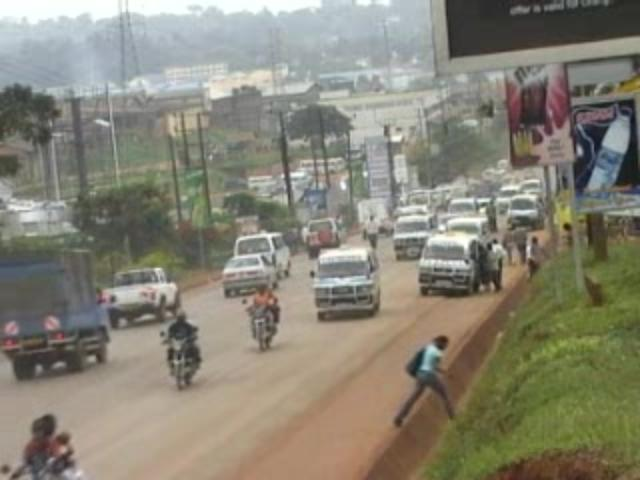car: (100, 267, 179, 328), (221, 252, 278, 296), (304, 218, 342, 259)
motorcycle: (18, 416, 81, 478), (160, 319, 198, 390), (246, 294, 279, 352)
truck: (1, 250, 112, 380)
van: (310, 247, 380, 318), (415, 232, 480, 294), (233, 232, 290, 279), (392, 212, 436, 259), (506, 194, 543, 231), (446, 197, 487, 220), (445, 216, 484, 238), (518, 179, 543, 195)
